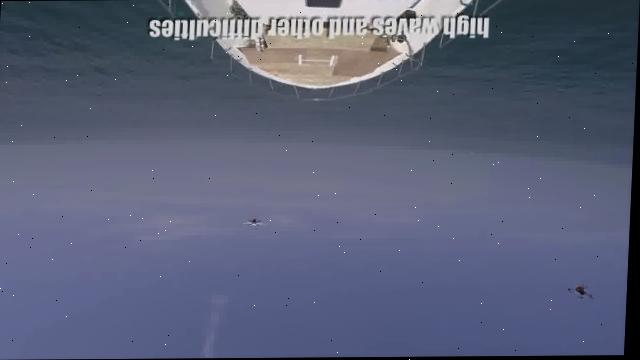drone: (568, 281, 600, 304), (244, 215, 268, 232)
